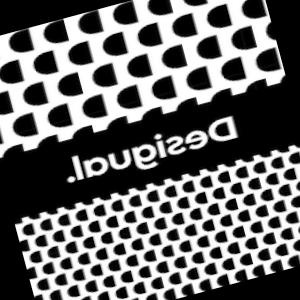desigual: (216, 51, 271, 154)
